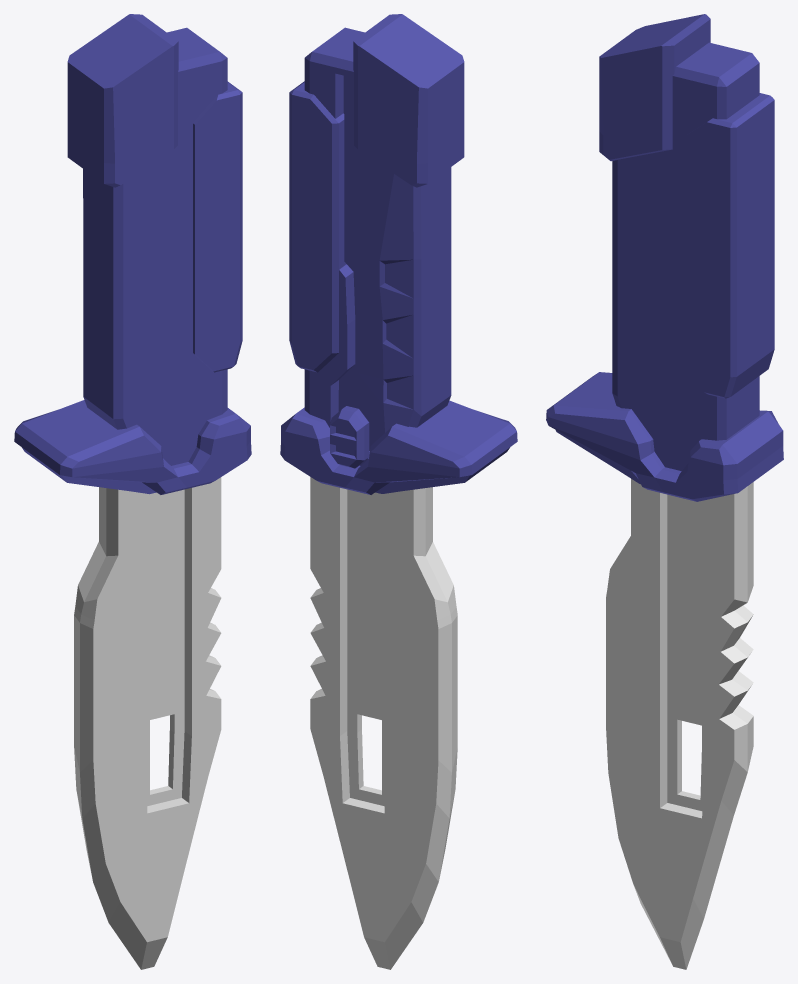
The model's file is Knife.fbx.
3 renders of one model, left to right at view 1: azimuth 30°, elevation 25°; view 2: azimuth 150°, elevation 25°; view 3: azimuth 330°, elevation 25°, orthographic.
Visible parts, largest first — view 1: Plane.003, Plane.004; view 2: Plane.003, Plane.004; view 3: Plane.003, Plane.004.
Part boxes in pixels (x1,y1,x2,y2): Plane.003: (14, 14, 251, 494); Plane.004: (74, 477, 221, 969); Plane.003: (280, 14, 517, 494); Plane.004: (310, 477, 457, 969); Plane.003: (546, 14, 783, 501); Plane.004: (606, 479, 753, 969).
Size of the model in its own units: 395 by 1846 by 201.
